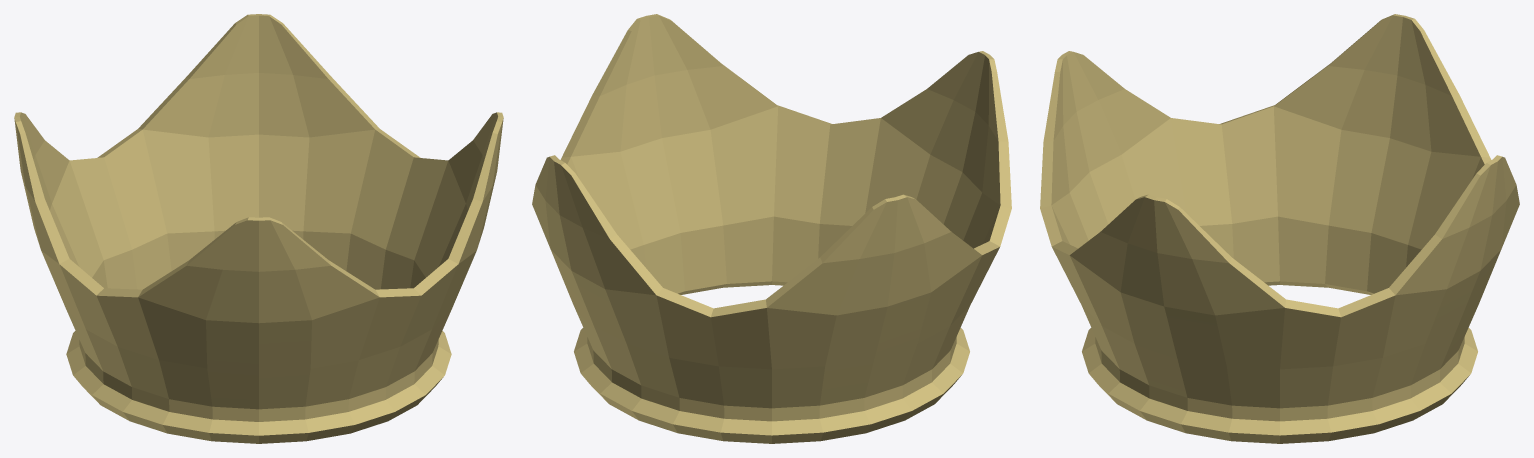
The model's file is Crown.glb.
3 views of the same model, side by side, from view 1: azimuth 30°, elevation 25°; view 2: azimuth 150°, elevation 25°; view 3: azimuth 270°, elevation 25° (orthographic). The views are drawn at different scales.
Visible parts, largest first — view 1: Crown; view 2: Crown; view 3: Crown.
Part boxes in pixels (x1,y1,x2,y2): Crown: [14, 14, 503, 443]; Crown: [532, 14, 1011, 443]; Crown: [1040, 14, 1519, 443].
Bounding box in the file's own units: 0.2 × 0.1183 × 0.2.
